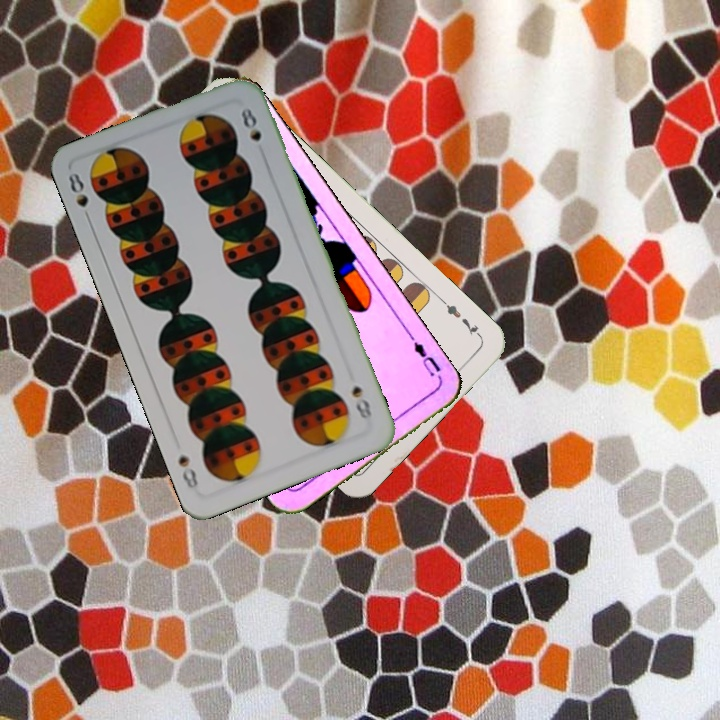E7: (437, 295, 484, 340)
EU: (409, 338, 443, 380)
S8: (64, 168, 94, 226), (347, 382, 376, 426)
